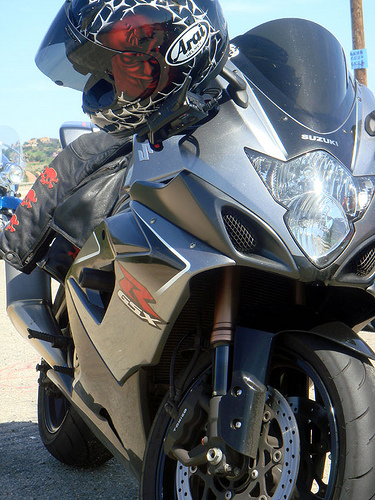helmet: (40, 2, 226, 119)
